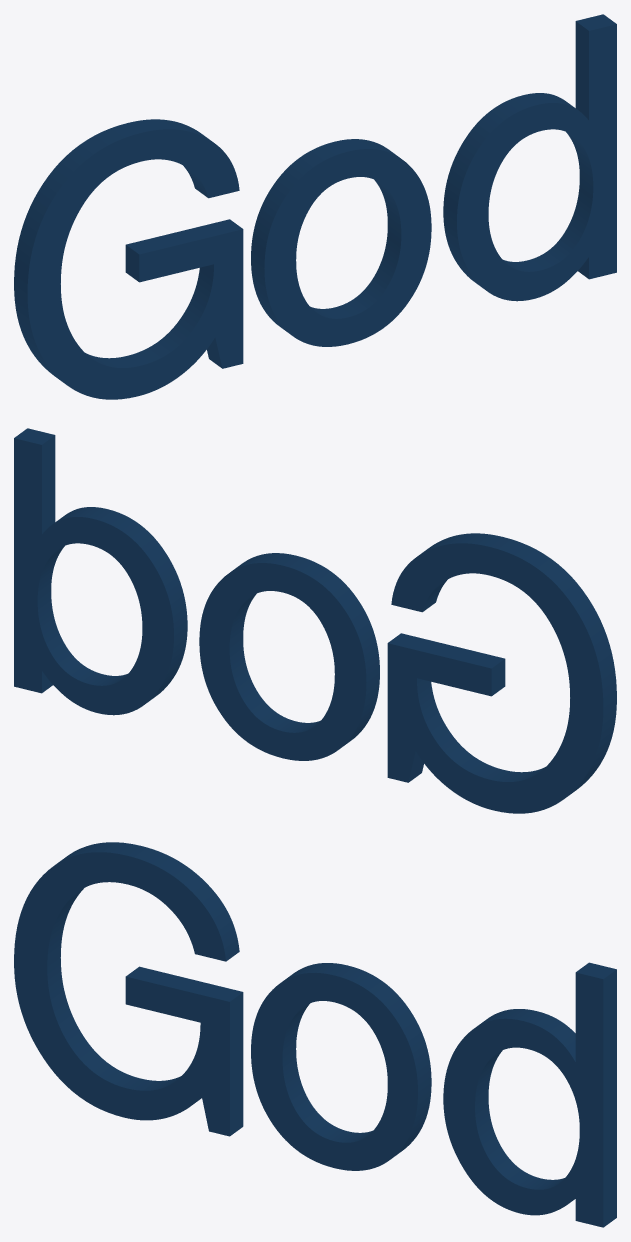
File: god.glb
3 views of the same model, one above another, from view 1: azimuth 30°, elevation 25°; view 2: azimuth 150°, elevation 25°; view 3: azimuth 330°, elevation 25° (orthographic).
Visible parts, largest first — view 1: mesh_0; view 2: mesh_0; view 3: mesh_0.
Boxes of the visible parts, x1=… form: mesh_0: x1=14, y1=14, x2=616, y2=399; mesh_0: x1=14, y1=428, x2=616, y2=813; mesh_0: x1=14, y1=842, x2=616, y2=1227.
Size of the model in its own units: 2.52 by 1.07 by 0.1001.
